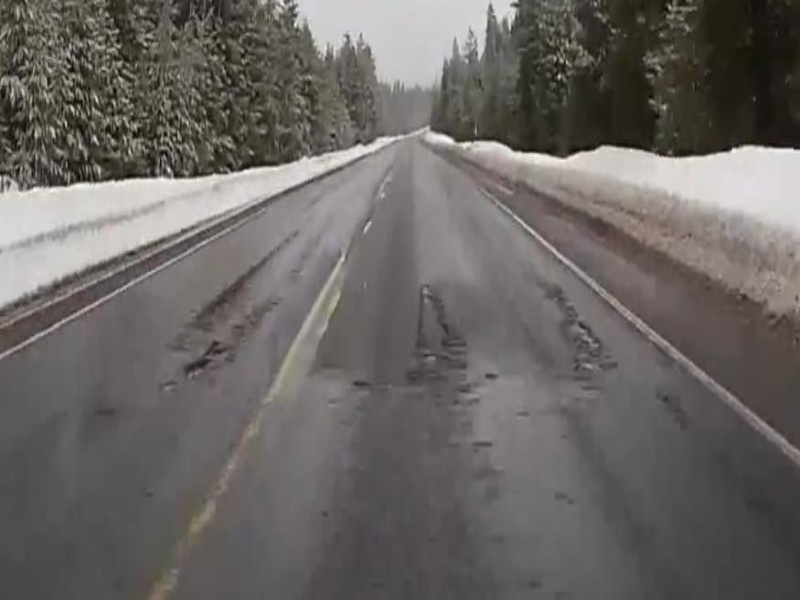pothole: (181, 337, 231, 377), (562, 318, 599, 351)
